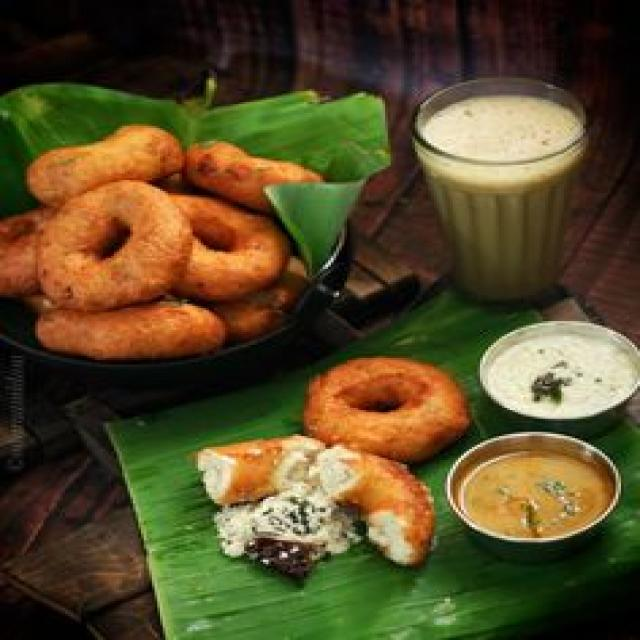MEDU VADA: (38, 180, 193, 308), (304, 358, 469, 458), (179, 200, 290, 299)
